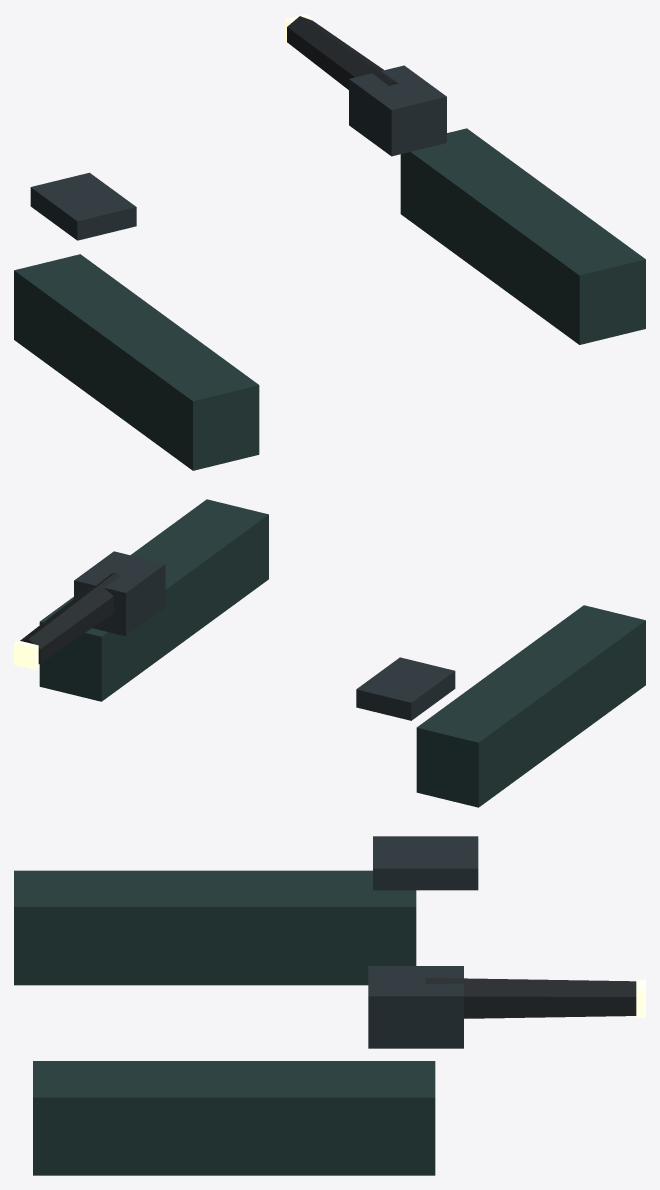
File: fp_arms.glb
3 renders of one model, top to bottom at view 1: azimuth 30°, elevation 25°; view 2: azimuth 150°, elevation 25°; view 3: azimuth 270°, elevation 25°, orthographic. The views are drawn at different scales.
Parts seen in each view (by area): view 1: arm_l, arm_r, hand_r, hand_l, flashlight; view 2: arm_l, arm_r, hand_r, hand_l, flashlight, flashlight_lens; view 3: arm_r, arm_l, hand_r, flashlight, hand_l.
Boxes of the visible parts, x1=… form: arm_l: x1=14, y1=254, x2=259, y2=470; arm_r: x1=400, y1=128, x2=645, y2=344; hand_r: x1=349, y1=65, x2=446, y2=156; hand_l: x1=30, y1=172, x2=136, y2=240; flashlight: x1=287, y1=16, x2=398, y2=89; arm_l: x1=416, y1=605, x2=645, y2=807; arm_r: x1=39, y1=499, x2=268, y2=701; hand_r: x1=74, y1=551, x2=165, y2=636; hand_l: x1=356, y1=657, x2=455, y2=720; flashlight: x1=20, y1=572, x2=120, y2=663; flashlight_lens: x1=14, y1=640, x2=38, y2=669; arm_r: x1=33, y1=1061, x2=435, y2=1175; arm_l: x1=14, y1=870, x2=416, y2=985; hand_r: x1=368, y1=966, x2=463, y2=1048; flashlight: x1=425, y1=977, x2=636, y2=1018; hand_l: x1=373, y1=836, x2=478, y2=890.
Bounding box in the file's own units: 0.625 × 0.209 × 0.66.
